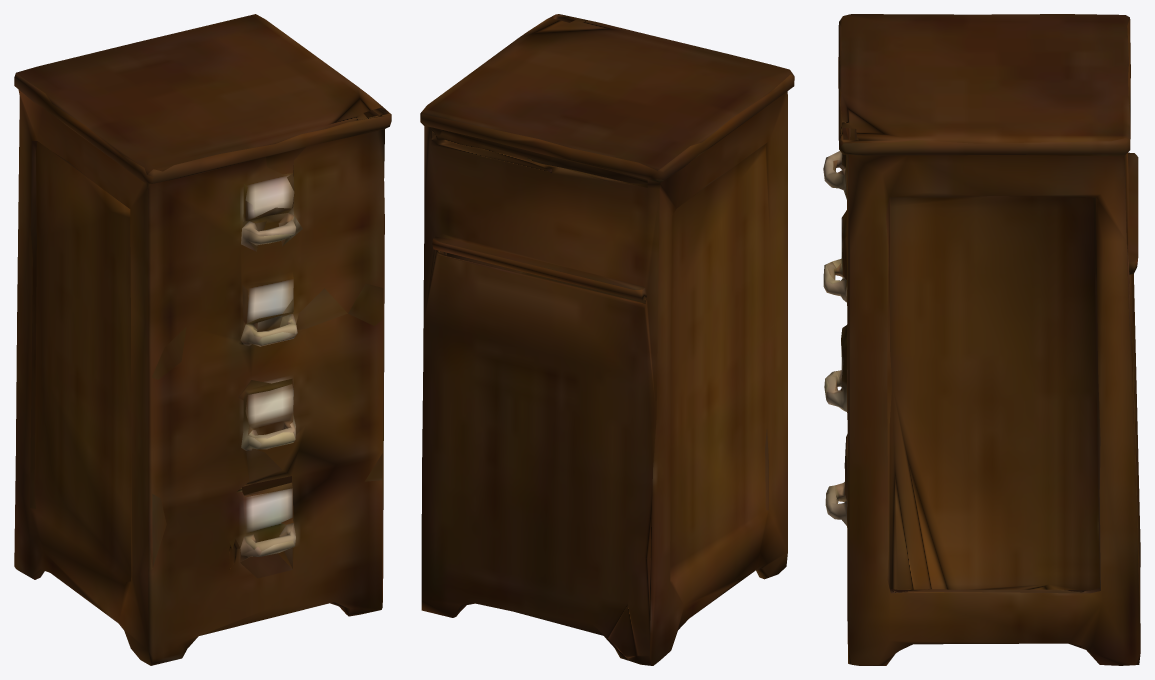
File: archivador.movil.glb
3 views of the same model, side by side, from view 1: azimuth 30°, elevation 25°; view 2: azimuth 150°, elevation 25°; view 3: azimuth 270°, elevation 25° (orthographic). The views are drawn at different scales.
Parts seen in each view (by area): view 1: geometry_0; view 2: geometry_0; view 3: geometry_0.
Part boxes in pixels (x1,y1,x2,y2): geometry_0: (14,14,391,665); geometry_0: (420,14,794,665); geometry_0: (823,14,1140,665).
Bounding box in the file's own units: 0.619 × 1.2 × 0.6498.
1 material, 1 textured.
